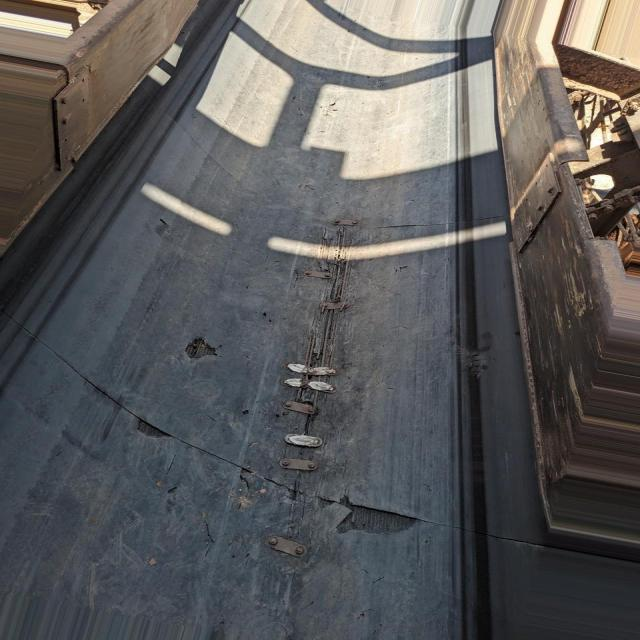Tear: (50, 333, 439, 545), (349, 220, 450, 239), (184, 330, 218, 356), (153, 213, 181, 239)
patch work: (276, 215, 355, 486), (246, 516, 317, 569)
